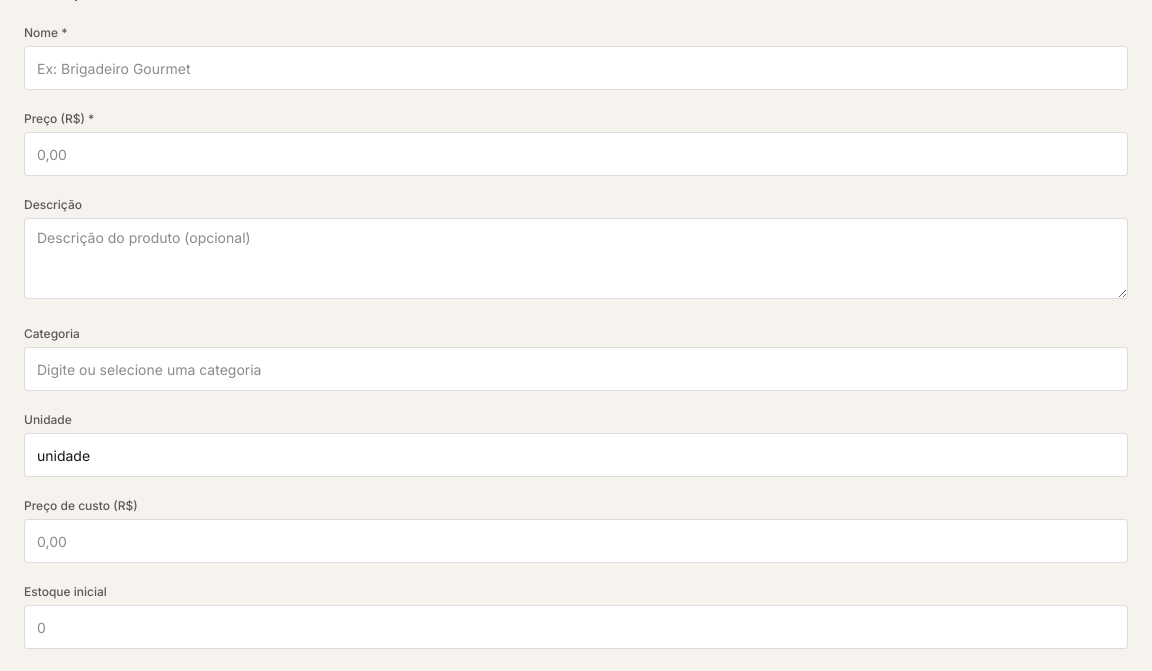
Test: ProductForm › Validação — mesma regra cobre create e edit › exibe erro quando preço está vazio no create
Type "Produto" into the field named "Nome do produto" at (576, 68), box [24,46,1128,90]
(page scrolled)
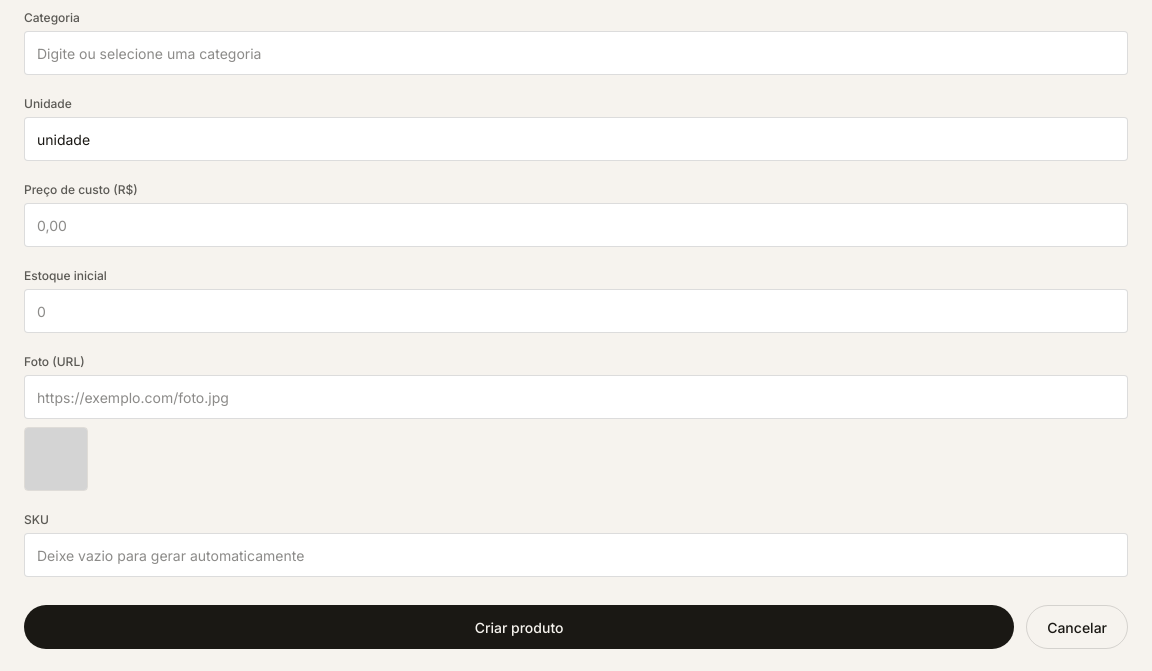
Submit the form from the button "Criar produto", box [24,605,1014,649]
(page scrolled)
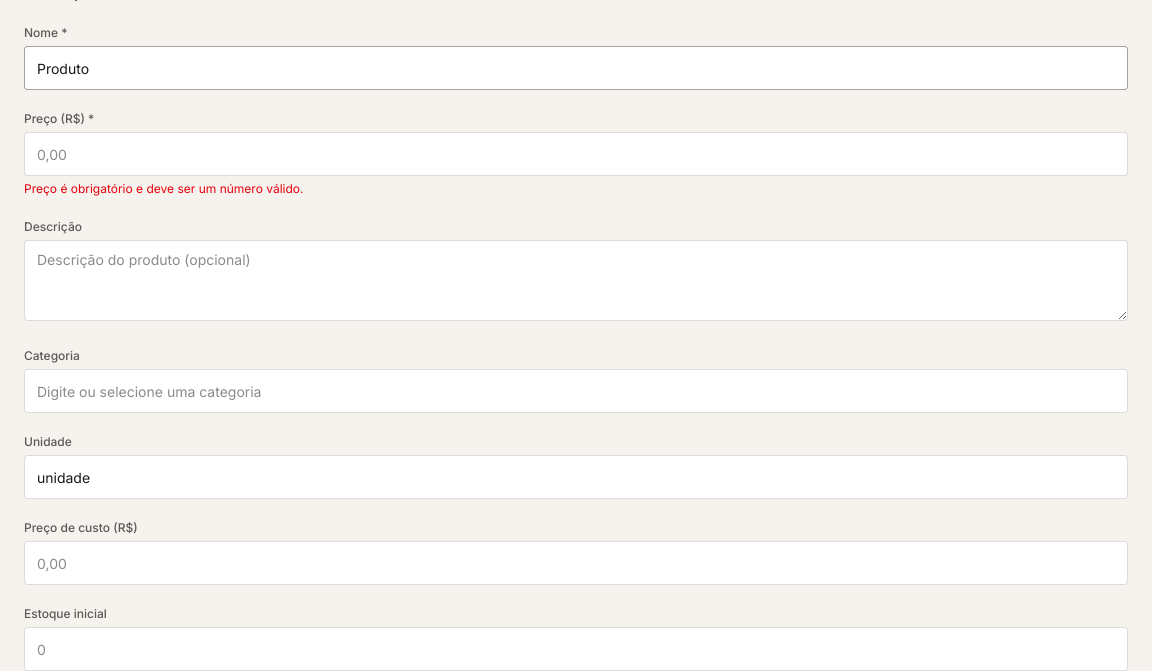
Check: the text "Preço é obrigatório e deve ser um número válido." is shown, box [24,181,304,196]
